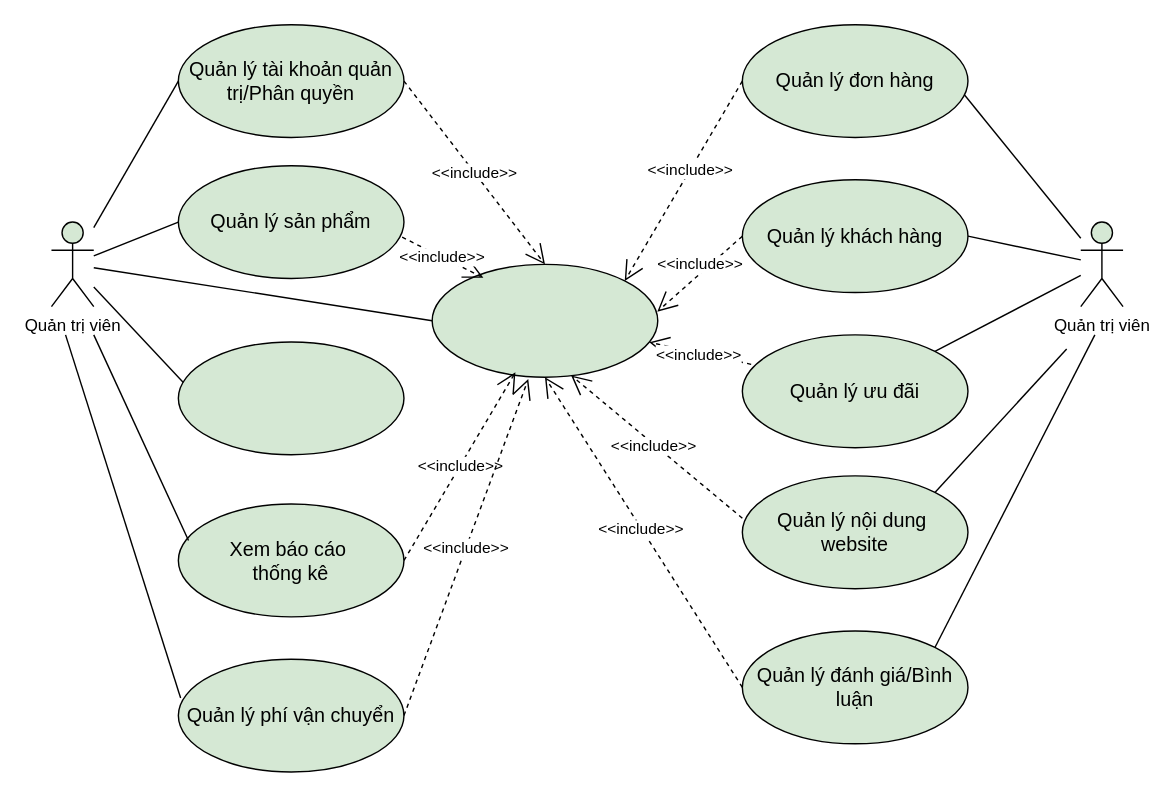
This 1173x797 diagram has some shape labels left out. Each missing label, with the centre of its shape:
Đăng nhập: [544,320]
Đăng xuất: [290,398]
